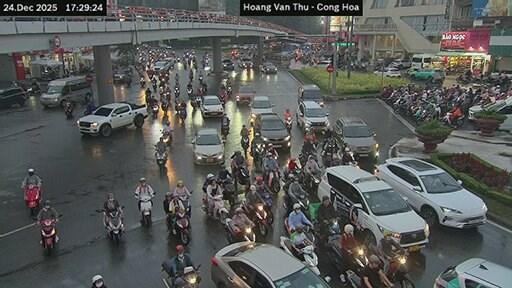motorbike: (326, 235, 367, 274), (384, 252, 412, 287), (162, 261, 199, 286), (224, 217, 255, 243), (202, 194, 227, 224), (313, 217, 338, 246), (253, 202, 272, 234), (300, 244, 319, 274), (41, 220, 57, 253), (281, 166, 301, 192), (287, 193, 309, 216), (25, 184, 41, 215), (217, 175, 233, 206), (106, 212, 122, 243), (175, 210, 189, 243), (234, 163, 249, 189), (322, 140, 336, 166), (140, 196, 152, 225), (250, 144, 263, 170), (304, 171, 320, 189), (268, 169, 280, 193), (281, 235, 294, 256), (342, 149, 358, 166), (442, 115, 464, 127), (259, 189, 272, 207), (304, 225, 316, 243), (179, 196, 189, 216), (156, 148, 166, 167), (240, 135, 249, 156), (190, 94, 201, 108), (26, 85, 41, 94), (163, 130, 172, 144), (284, 217, 291, 235), (217, 91, 227, 103), (64, 100, 71, 117), (150, 100, 157, 117), (220, 124, 227, 139), (284, 117, 291, 131), (178, 108, 185, 121), (160, 100, 167, 112), (173, 86, 179, 98), (186, 86, 192, 97), (140, 76, 144, 88), (243, 202, 248, 211), (153, 81, 156, 91), (227, 85, 230, 95), (198, 75, 202, 82), (57, 215, 60, 216)
